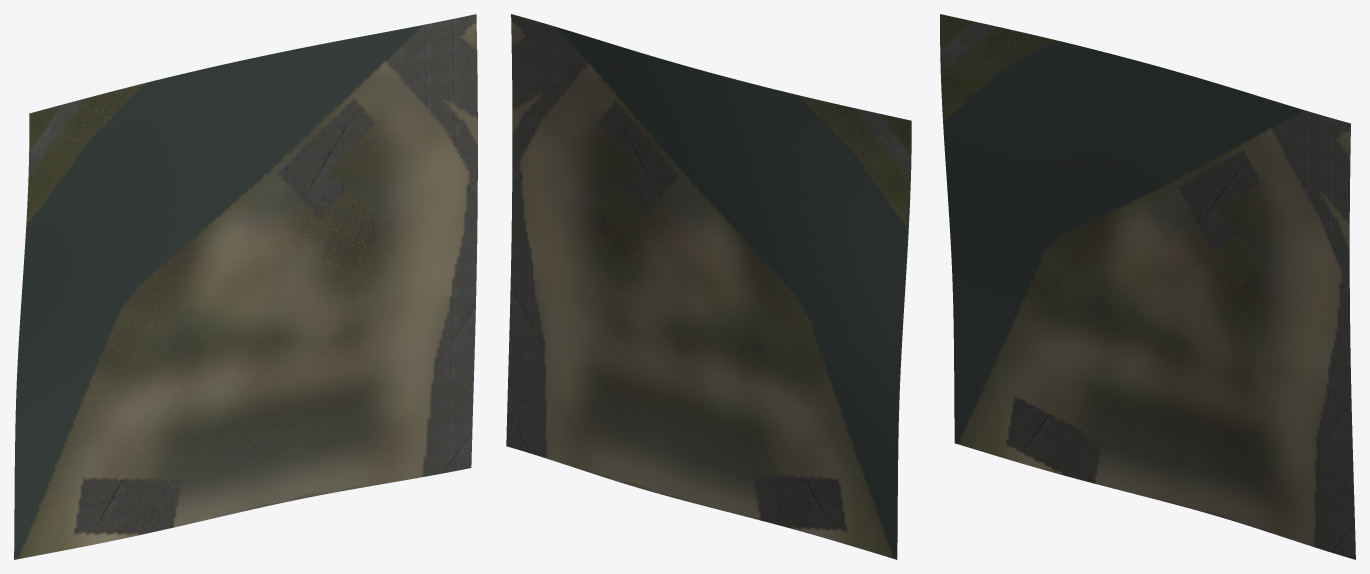
File: ground_core_06_00.obj
3 renders of one model, left to right at view 1: azimuth 30°, elevation 25°; view 2: azimuth 150°, elevation 25°; view 3: azimuth 330°, elevation 25°, orthographic. The views are drawn at different scales.
Parts seen in each view (by area): view 1: ground_core_06_00; view 2: ground_core_06_00; view 3: ground_core_06_00.
Boxes of the visible parts, <box> form: ground_core_06_00: <box>14,14,477,559</box>; ground_core_06_00: <box>506,14,911,559</box>; ground_core_06_00: <box>940,14,1355,559</box>.
Size of the model in its own units: 50 by 50 by 5.26.
1 material, 1 textured.
